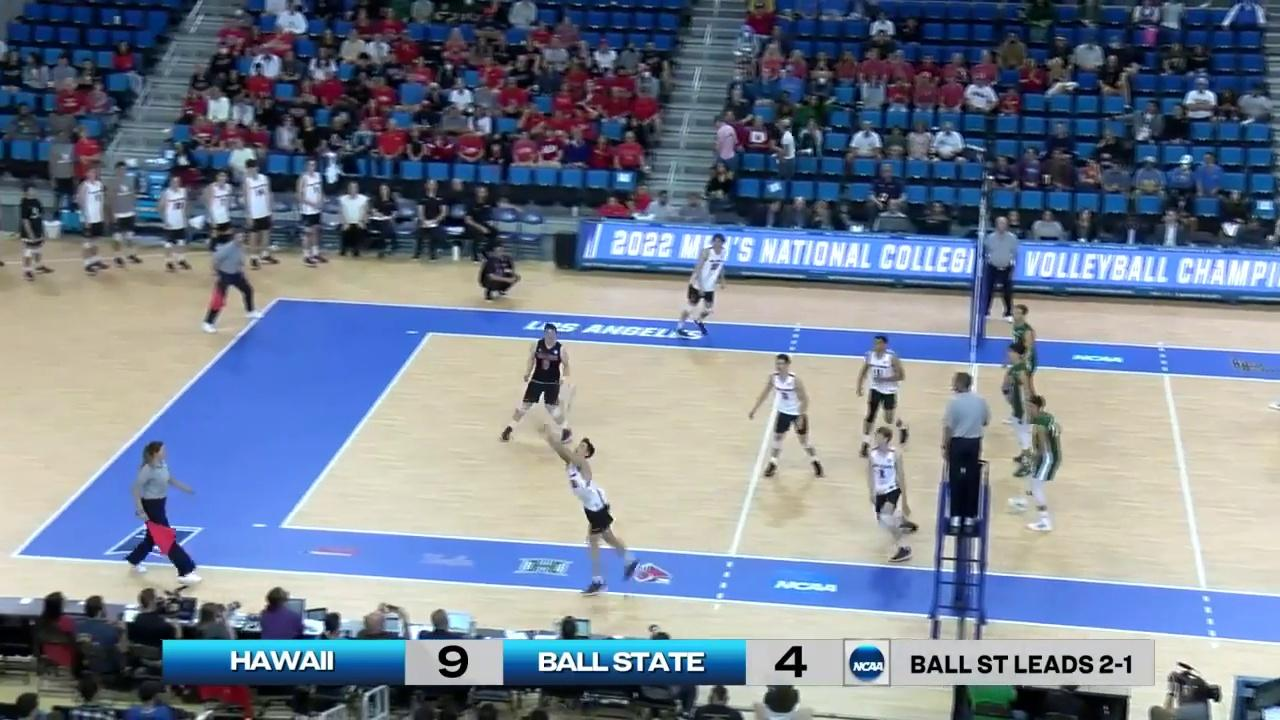player: (547, 438, 650, 596), (748, 355, 825, 477), (503, 321, 571, 440), (1012, 395, 1062, 535), (866, 428, 916, 566), (855, 333, 908, 452), (675, 235, 729, 336), (1004, 343, 1040, 479), (1001, 306, 1040, 422)
refree: (129, 441, 197, 576), (944, 372, 986, 527), (200, 232, 259, 332), (984, 216, 1019, 322)
